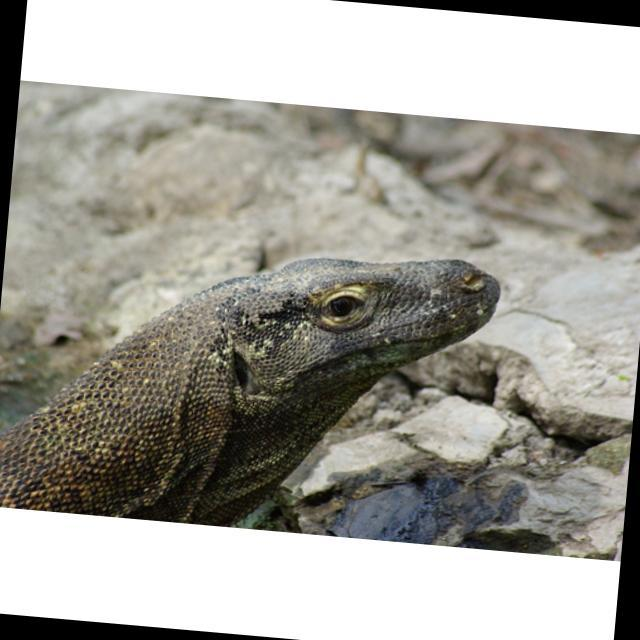KomodoDragon: (0, 214, 502, 545)
